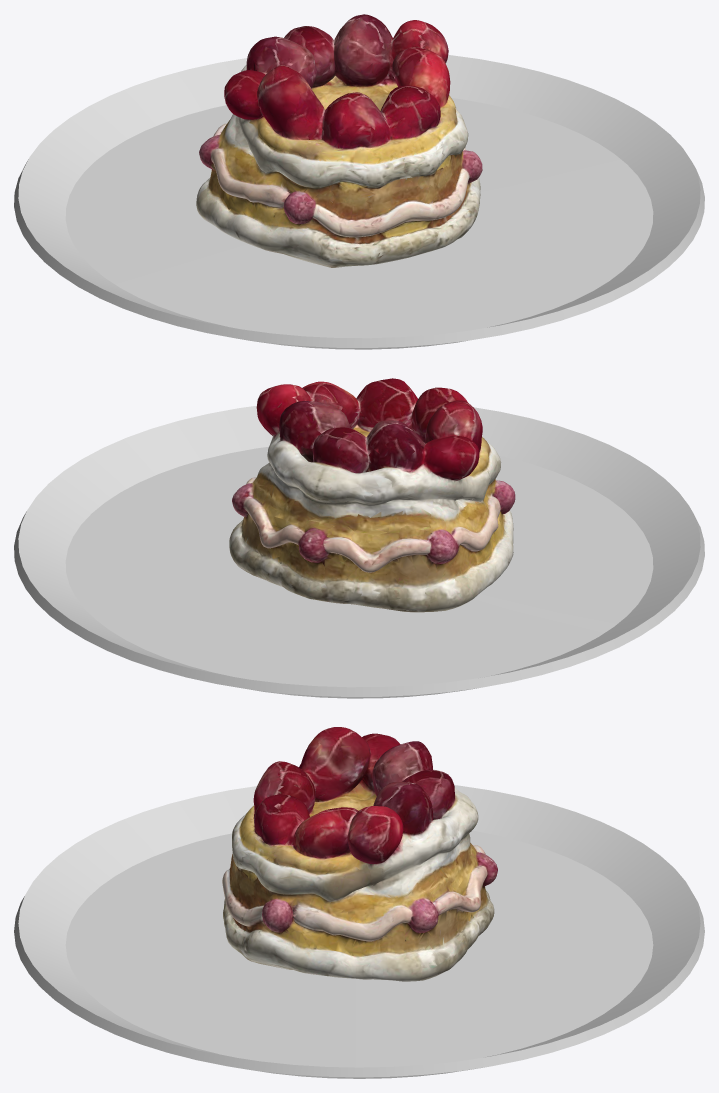
File: LetMeEatCake_01.glb
3 renders of one model, top to bottom at view 1: azimuth 30°, elevation 25°; view 2: azimuth 150°, elevation 25°; view 3: azimuth 270°, elevation 25°, orthographic.
Parts seen in each view (by area): view 1: Cube.006, Meshy_AI_Cherry_Pavlova_Stack_0429063041_texture.001; view 2: Cube.006, Meshy_AI_Cherry_Pavlova_Stack_0429063041_texture.001; view 3: Cube.006, Meshy_AI_Cherry_Pavlova_Stack_0429063041_texture.001.
Part boxes in pixels (x1,y1,x2,y2): Cube.006: [14, 55, 704, 349]; Meshy_AI_Cherry_Pavlova_Stack_0429063041_texture.001: [196, 14, 482, 267]; Cube.006: [14, 405, 704, 698]; Meshy_AI_Cherry_Pavlova_Stack_0429063041_texture.001: [229, 378, 515, 612]; Cube.006: [14, 785, 704, 1078]; Meshy_AI_Cherry_Pavlova_Stack_0429063041_texture.001: [222, 727, 497, 981].
Size of the model in its own units: 0.28 by 0.0818 by 0.28.
2 materials, 1 textured.
